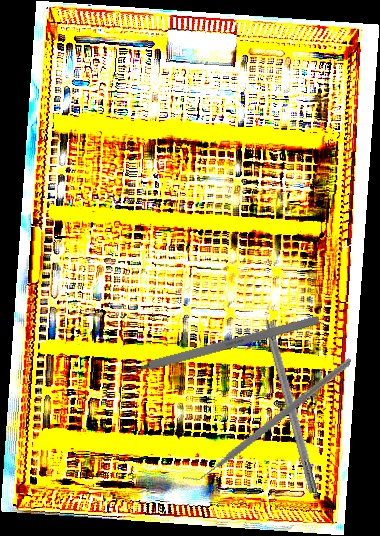Chopper: (182, 318, 352, 520)
Hook Surgical: (106, 314, 321, 382), (255, 291, 321, 495)
